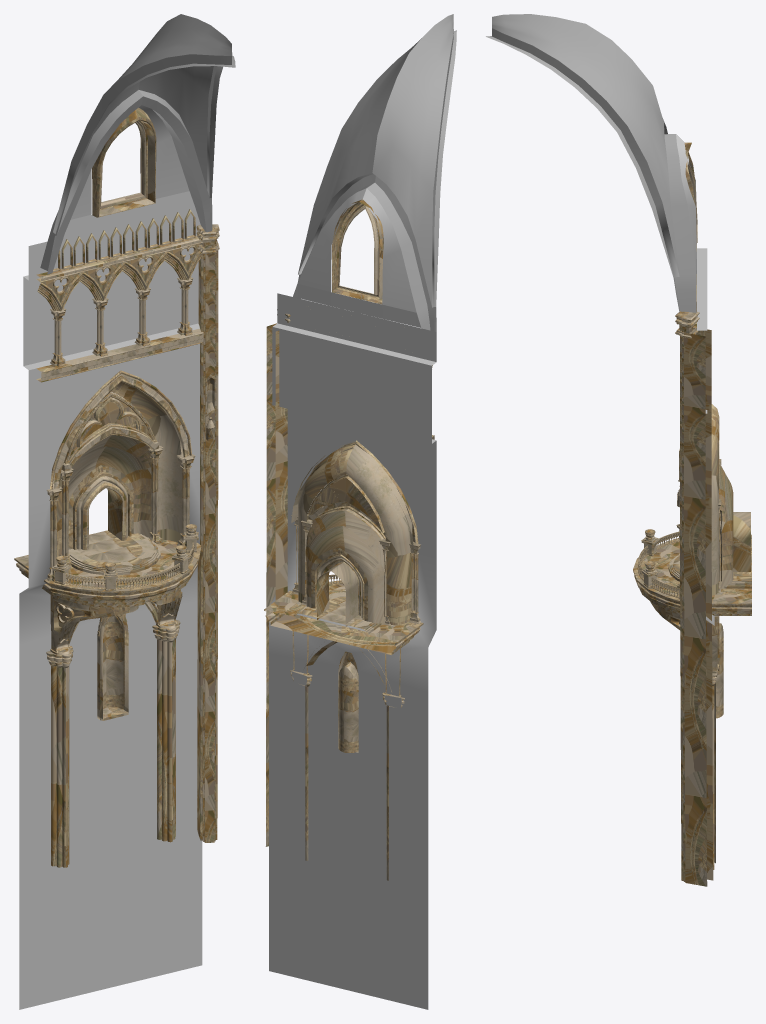
Rendered from SM_wall_01.fbx.
The picture shows the model from 3 angles, left to right: view 1: azimuth 30°, elevation 25°; view 2: azimuth 150°, elevation 25°; view 3: azimuth 270°, elevation 25°; orthographic projection. The views are drawn at different scales.
Parts seen in each view (by area): view 1: polySurface29848; view 2: polySurface29848; view 3: polySurface29848.
Part boxes in pixels (x1,y1,x2,y2): polySurface29848: (14,14,235,1009); polySurface29848: (264,14,456,1009); polySurface29848: (486,14,751,886).
Size of the model in its own units: 20.79 by 108 by 27.3.
